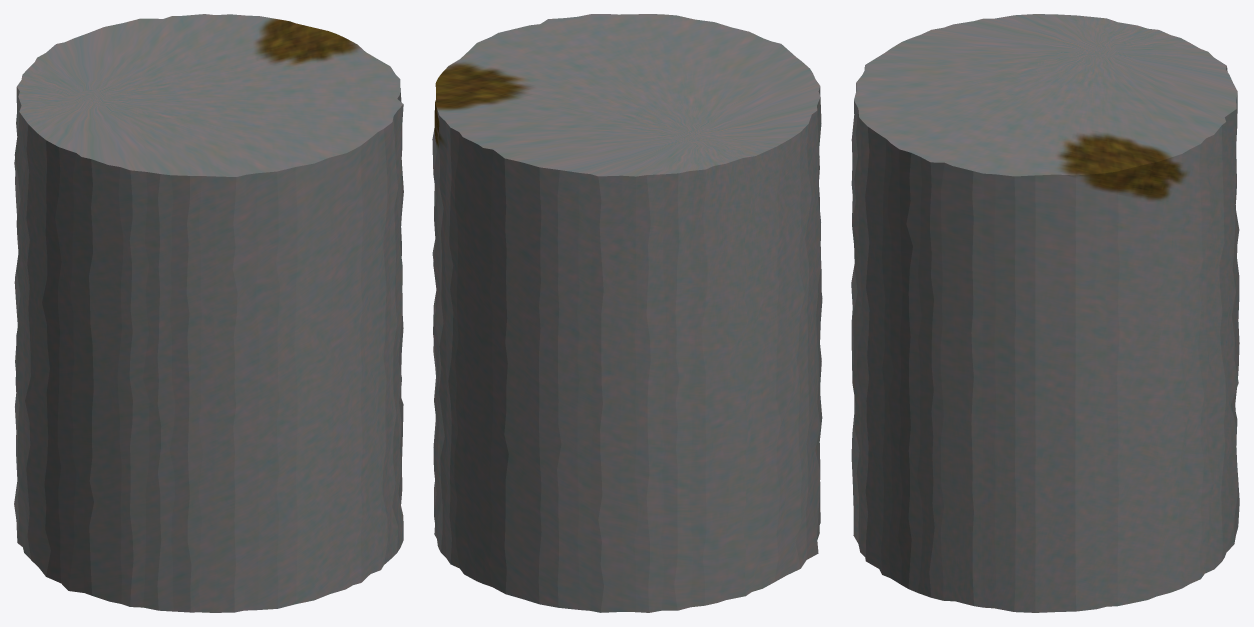
The model's file is barrel_29.dae.
3 views of the same model, side by side, from view 1: azimuth 30°, elevation 25°; view 2: azimuth 150°, elevation 25°; view 3: azimuth 270°, elevation 25° (orthographic).
Parts seen in each view (by area): view 1: Cylinder; view 2: Cylinder; view 3: Cylinder.
Boxes of the visible parts, box(x1,y1,x2,y2) form: Cylinder: box(14, 14, 403, 612); Cylinder: box(432, 14, 822, 612); Cylinder: box(851, 14, 1239, 612).
Bounding box in the file's own units: 0.8217 × 0.8088 × 1.
Materials: 1 (1 with a texture image).
